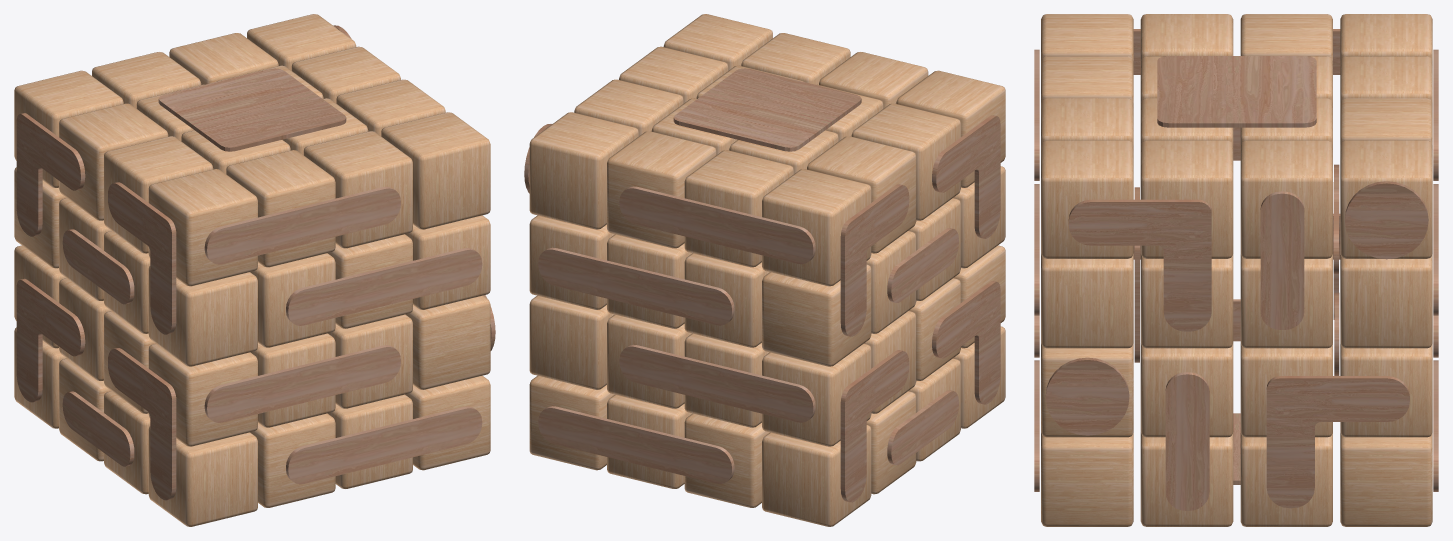
File: level_62 1.fbx
3 renders of one model, left to right at view 1: azimuth 30°, elevation 25°; view 2: azimuth 150°, elevation 25°; view 3: azimuth 270°, elevation 25°, orthographic. The views are drawn at different scales.
Parts seen in each view (by area): view 1: obj_obs_square.002, Cube.062, Cube.063, obj_obs_Y.002, obj_obs_Y.001, obj_obs_Y.005, obj_obs_Y.003, Cube.059, Cube.051, Cube.061, Cube.054, Cube.064 (+35 smaller); view 2: obj_obs_square.002, Cube.046, obj_obs_Y.004, obj_obs_Y.007, obj_obs_Y.006, obj_obs_Y.008, Cube.043, Cube.047, Cube.035, Cube.045, Cube.038, Cube.048 (+35 smaller); view 3: obj_obs_square.002, obj_obs_L.007, obj_obs_L.006, Cube.042, Cube.050, Cube.058, Cube.034, Cube.014, Cube.062, Cube.030, Cube.046, obj_obs_I.004 (+33 smaller).
Part boxes in pixels (x1,y1,x2,y2): obj_obs_square.002: [158, 68, 346, 151]; Cube.062: [381, 112, 490, 229]; Cube.063: [148, 169, 257, 286]; obj_obs_Y.002: [204, 345, 400, 422]; obj_obs_Y.001: [286, 248, 482, 325]; obj_obs_Y.005: [204, 186, 400, 264]; obj_obs_Y.003: [286, 406, 482, 484]; Cube.059: [148, 266, 257, 366]; Cube.051: [148, 426, 257, 526]; Cube.061: [303, 131, 412, 248]; Cube.054: [405, 295, 490, 389]; Cube.064: [226, 150, 335, 267]; obj_obs_square.002: [673, 68, 861, 151]; Cube.046: [529, 112, 638, 229]; obj_obs_Y.004: [619, 186, 815, 264]; obj_obs_Y.007: [619, 344, 815, 422]; obj_obs_Y.006: [538, 247, 734, 325]; obj_obs_Y.008: [538, 406, 734, 483]; Cube.043: [762, 264, 871, 366]; Cube.047: [762, 169, 871, 286]; Cube.035: [762, 425, 871, 526]; Cube.045: [607, 131, 716, 248]; Cube.038: [529, 295, 614, 389]; Cube.048: [684, 150, 793, 267]; obj_obs_square.002: [1157, 56, 1316, 127]; obj_obs_L.007: [1068, 199, 1211, 331]; obj_obs_L.006: [1266, 376, 1409, 508]; Cube.042: [1340, 254, 1432, 348]; Cube.050: [1041, 432, 1133, 526]; Cube.058: [1041, 254, 1133, 348]; Cube.034: [1340, 433, 1432, 526]; Cube.014: [1240, 140, 1332, 258]; Cube.062: [1041, 140, 1133, 258]; Cube.030: [1140, 140, 1233, 258]; Cube.046: [1340, 140, 1432, 258]; obj_obs_I.004: [1165, 372, 1209, 510].
Bounding box in the file's own units: 8.51 × 8.41 × 8.52.
